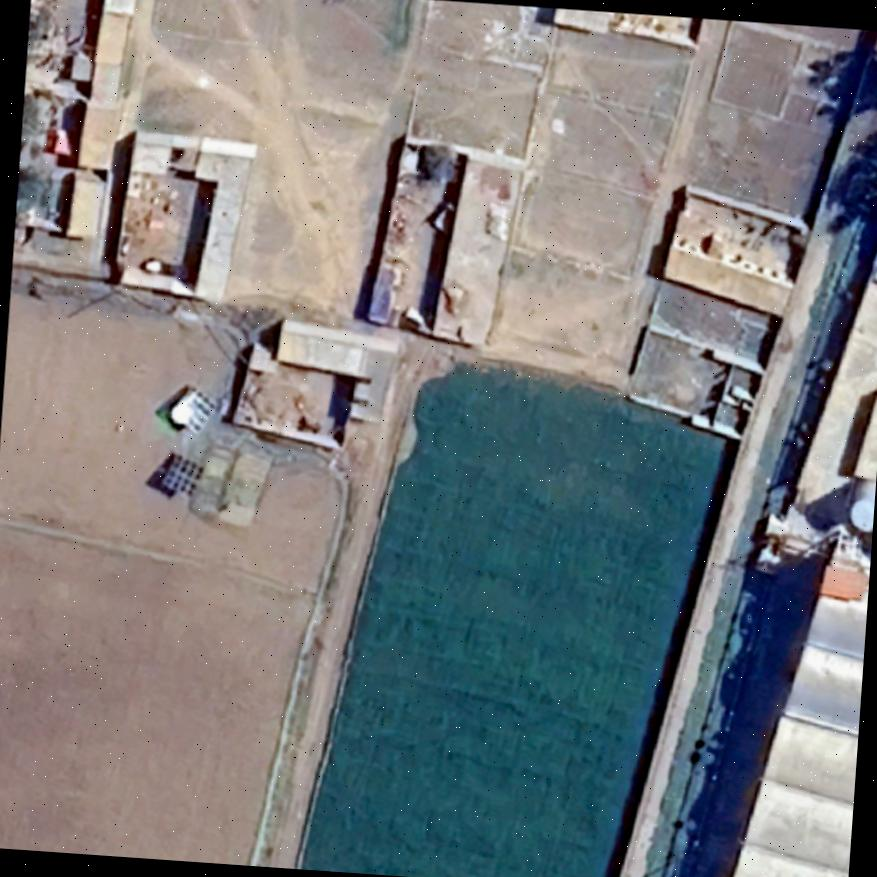Solarpanel: (159, 456, 203, 500), (174, 385, 216, 427)
